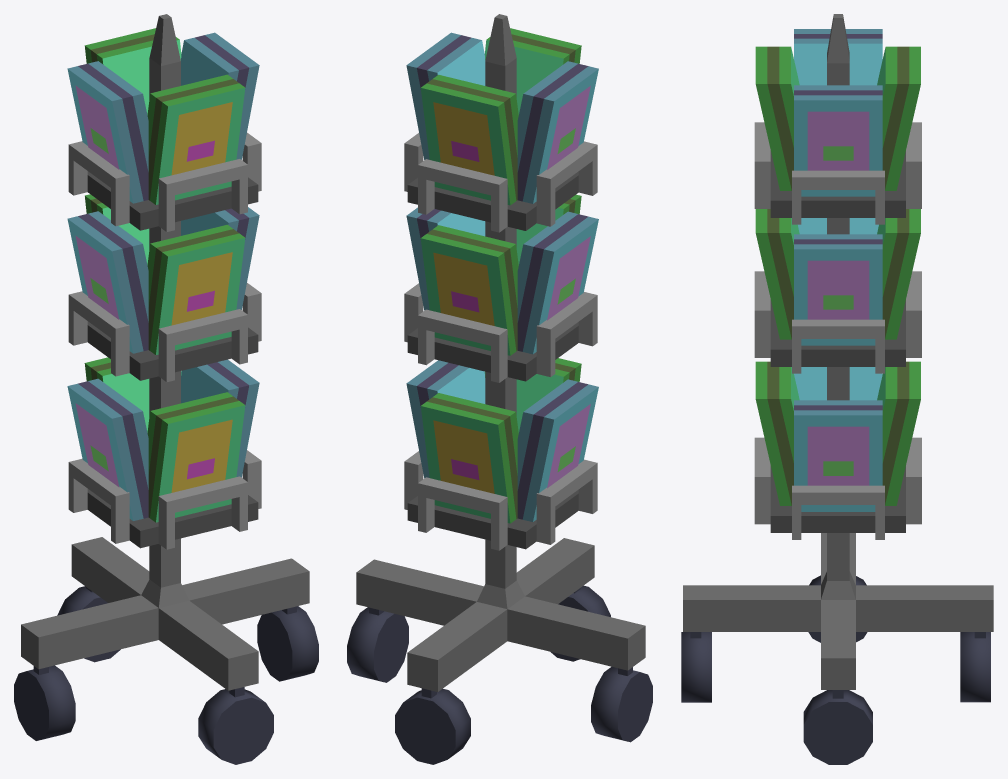
File: Shelf_with_cards.fbx
The picture shows the model from 3 angles, left to right: view 1: azimuth 30°, elevation 25°; view 2: azimuth 150°, elevation 25°; view 3: azimuth 270°, elevation 25°; orthographic projection.
Visible parts, largest first — view 1: Shelf_with_cards; view 2: Shelf_with_cards; view 3: Shelf_with_cards.
Boxes of the visible parts, x1,y1,x2,y2 form: Shelf_with_cards: (14,14,318,764); Shelf_with_cards: (347,14,652,764); Shelf_with_cards: (681,14,993,764).
Size of the model in its own units: 0.746 by 0.7437 by 1.8.
